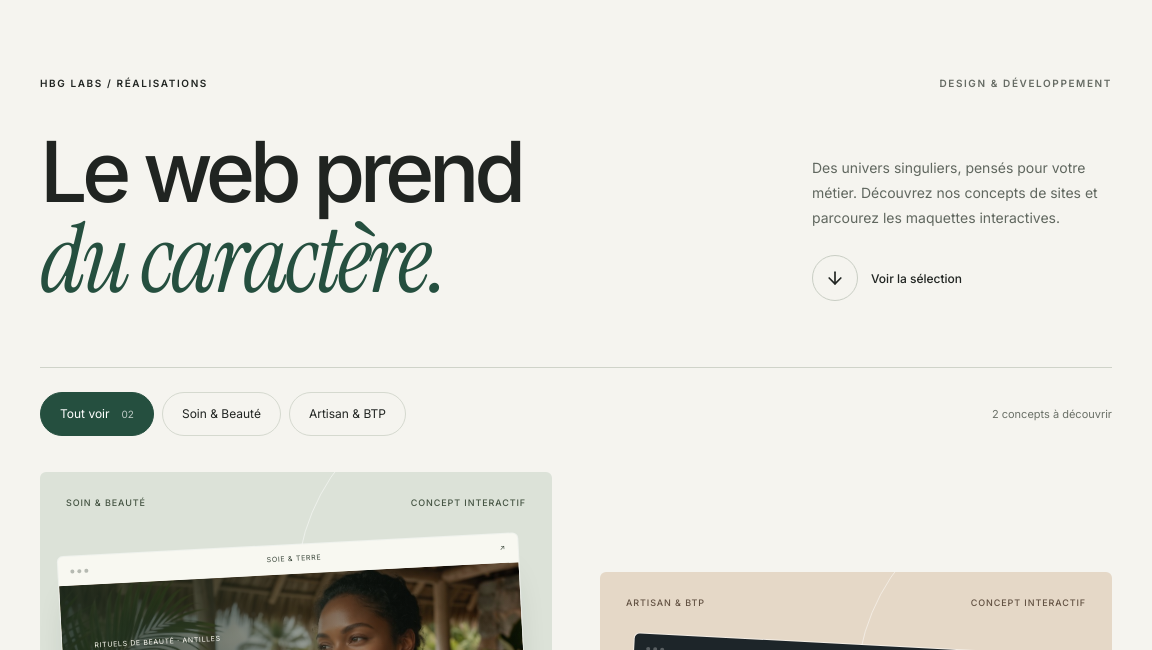
it: ShowcaseGallery component › filtre réellement les concepts puis restaure la sélection complète
Click the button "Artisan & BTP" at [347, 414], box [289, 392, 406, 436]
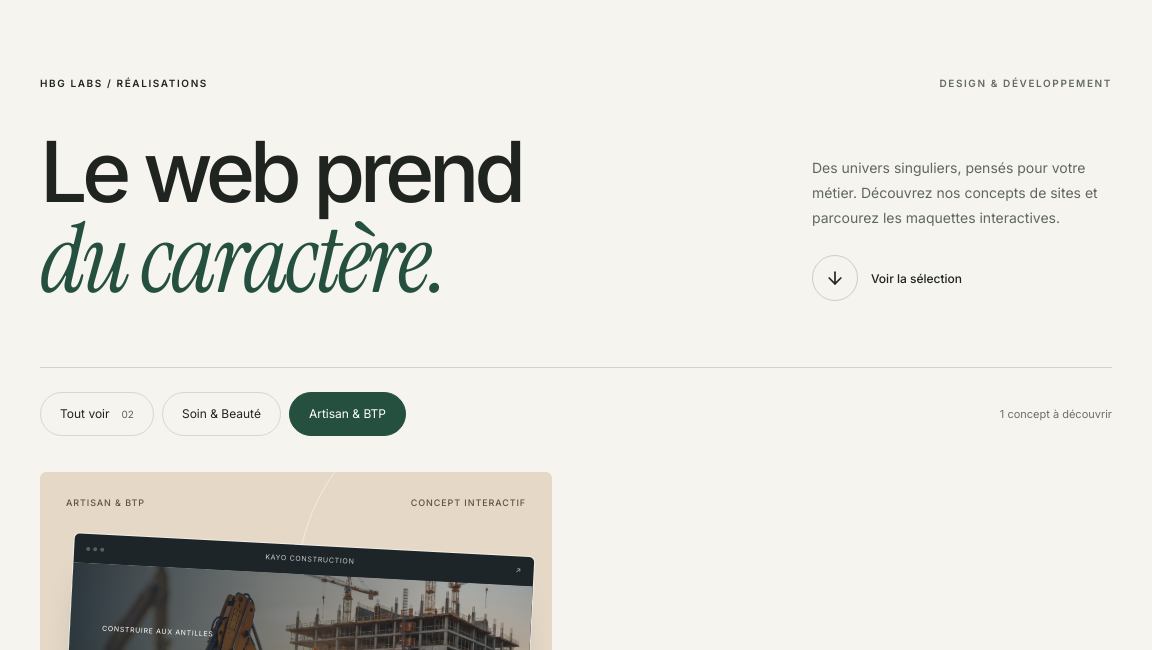
Result: the message reads "1 concept à découvrir" at [1000, 406, 1112, 423]
Click the button "Soin & Beauté" at [222, 414], box [162, 392, 281, 436]
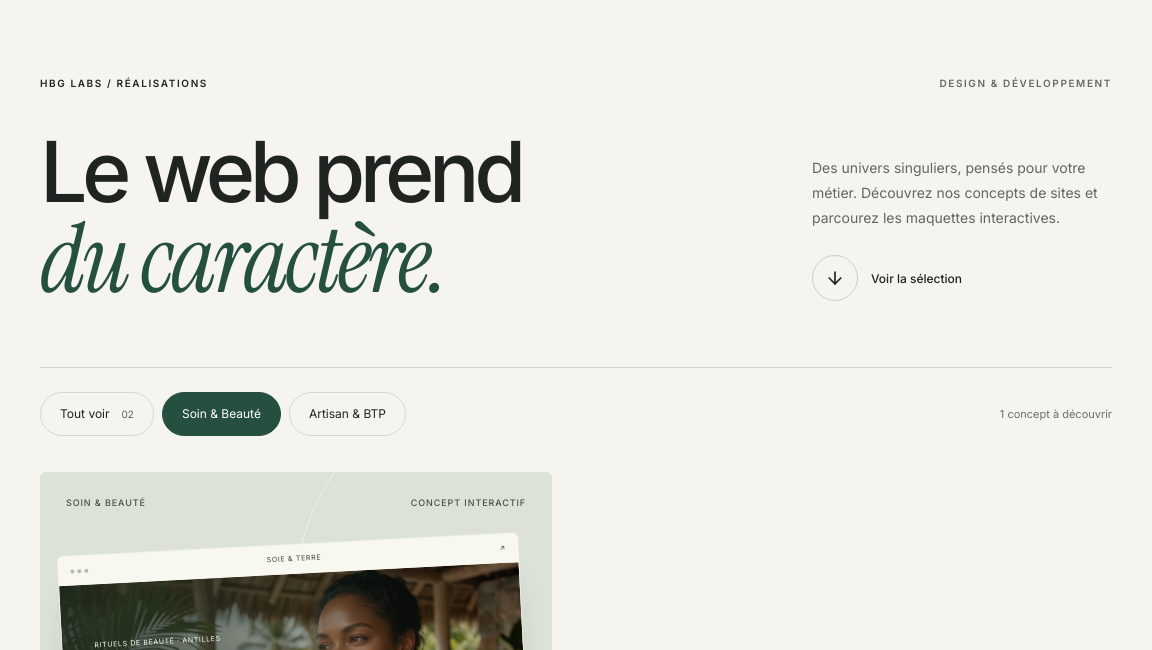
Click the button "Tout voir 02" at [97, 414], box [40, 392, 154, 436]
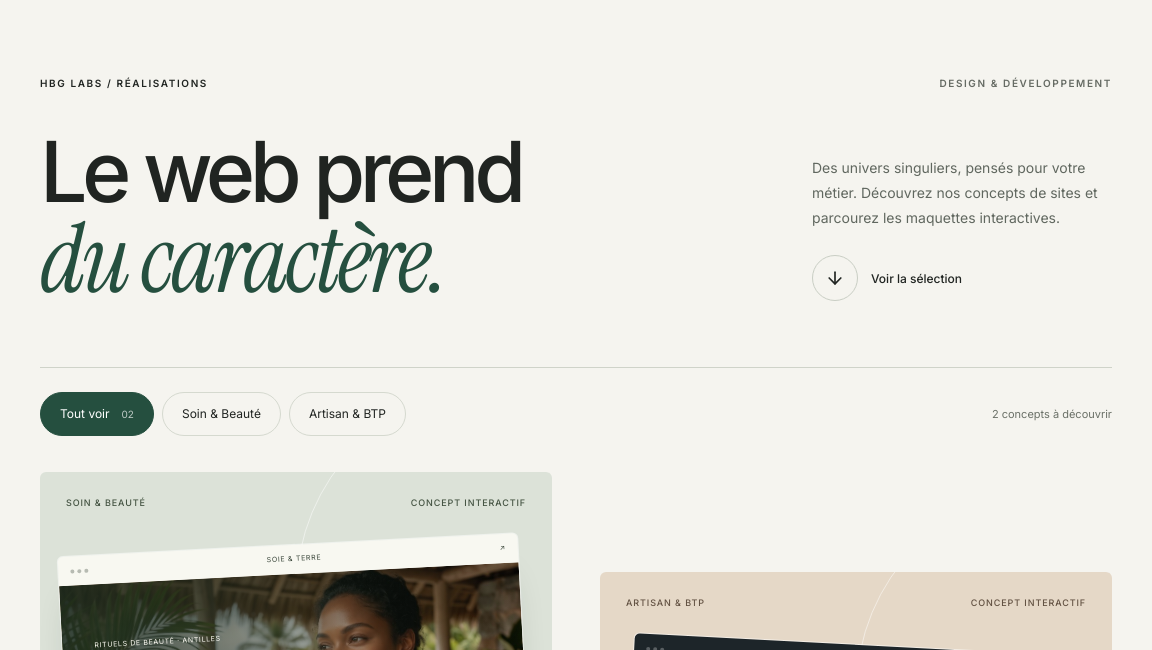
Result: the message reads "2 concepts à découvrir" at [992, 406, 1112, 423]
